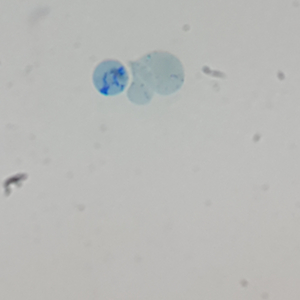aggregate reticulocyte: (91, 58, 130, 97)
punctate reticulocyte: (132, 50, 185, 97), (126, 59, 158, 107)
